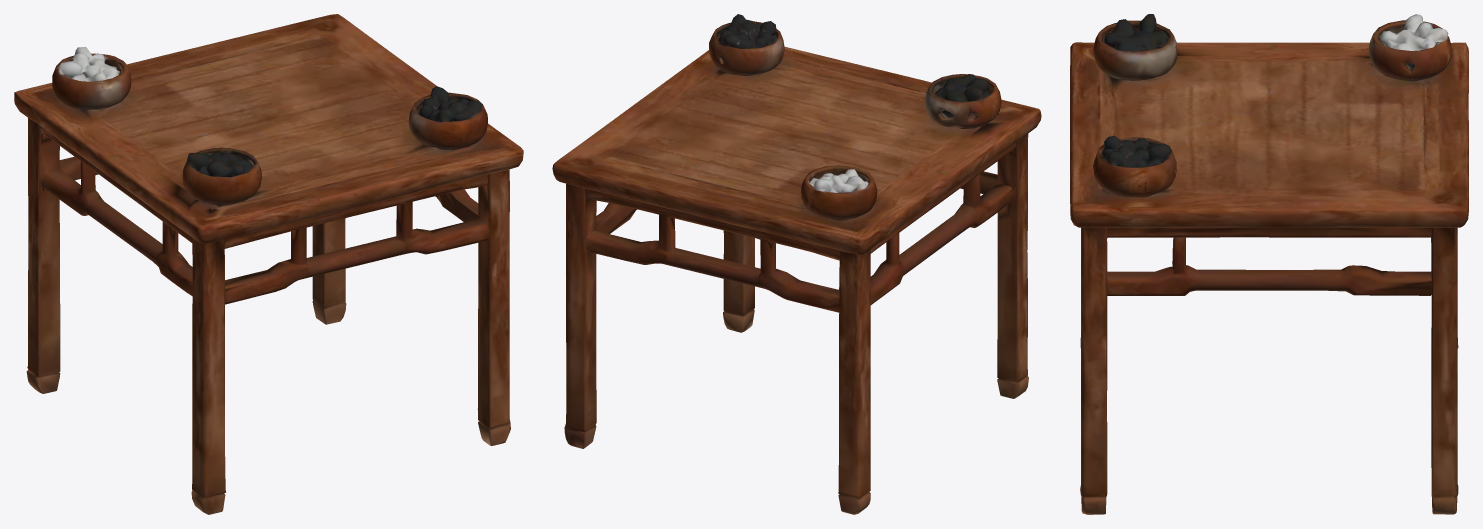
Rendered from qizhuo.glb.
3 renders of one model, left to right at view 1: azimuth 30°, elevation 25°; view 2: azimuth 150°, elevation 25°; view 3: azimuth 270°, elevation 25°, orthographic. The views are drawn at different scales.
Visible parts, largest first — view 1: tripo_node_3042caaa-a978-40e1-baf6-56590cf5dac0; view 2: tripo_node_3042caaa-a978-40e1-baf6-56590cf5dac0; view 3: tripo_node_3042caaa-a978-40e1-baf6-56590cf5dac0.
Part boxes in pixels (x1,y1,x2,y2): tripo_node_3042caaa-a978-40e1-baf6-56590cf5dac0: (14, 14, 523, 514); tripo_node_3042caaa-a978-40e1-baf6-56590cf5dac0: (552, 14, 1041, 514); tripo_node_3042caaa-a978-40e1-baf6-56590cf5dac0: (1070, 14, 1468, 514).
Bounding box in the file's own units: 1.02 × 1 × 1.02.
1 material, 1 textured.
